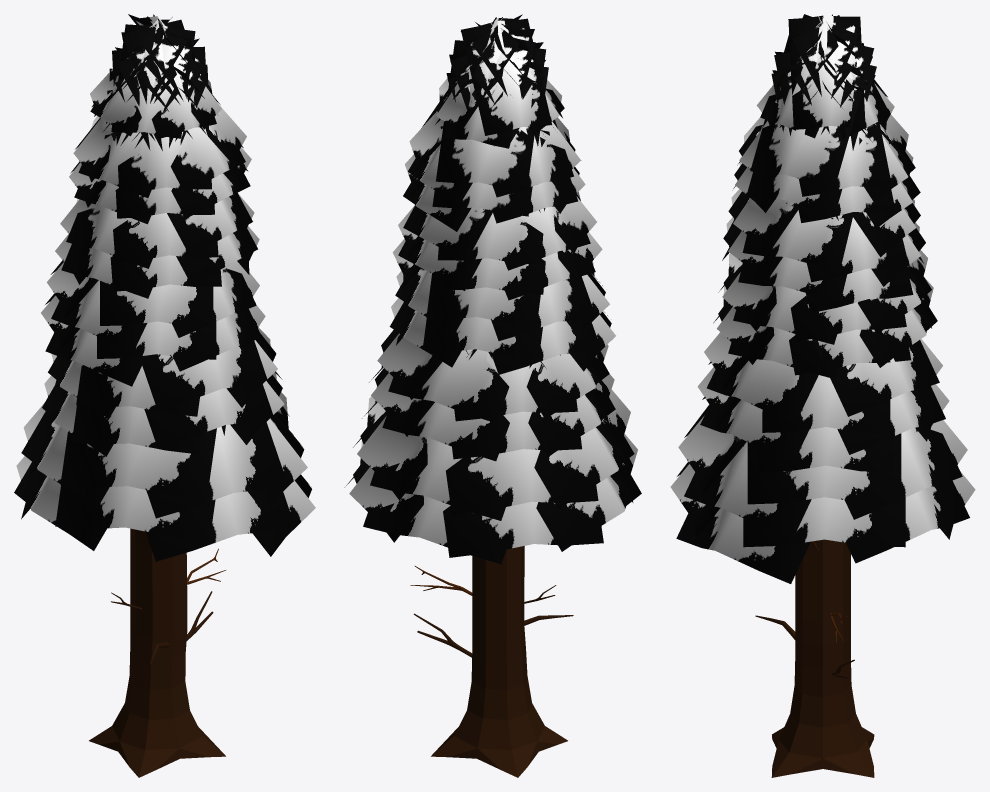
Rendered from tree2.fbx.
3 views of the same model, side by side, from view 1: azimuth 30°, elevation 25°; view 2: azimuth 150°, elevation 25°; view 3: azimuth 270°, elevation 25° (orthographic).
Parts seen in each view (by area): view 1: Cube; view 2: Cube; view 3: Cube.
Boxes of the visible parts, x1,y1,x2,y2 form: Cube: (14, 14, 315, 777); Cube: (344, 14, 641, 777); Cube: (670, 14, 975, 777).
Bounding box in the file's own units: 1239 × 3274 × 1221.
